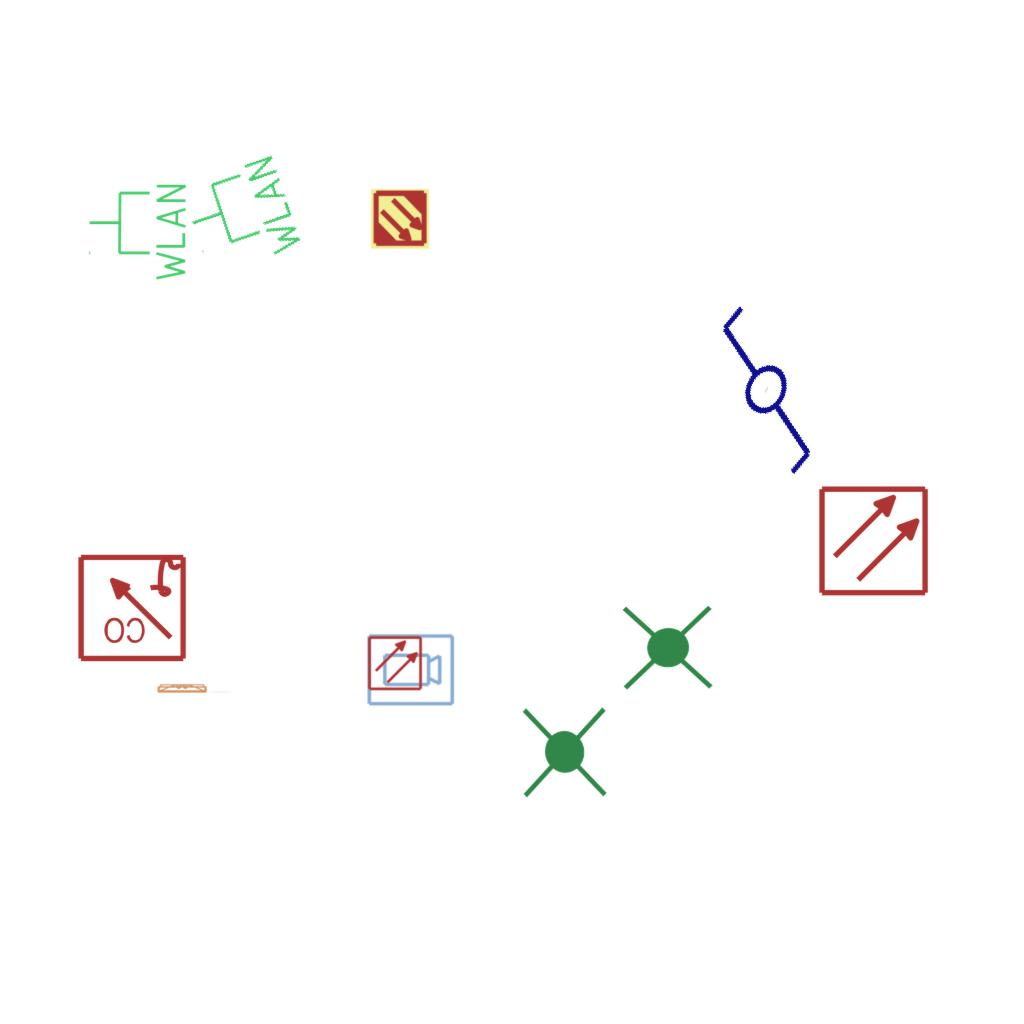ASR_Ansaugrauchmelder: (369, 188, 431, 250)
KFO_Kamera_mit_Festobjektiv: (365, 632, 456, 709)
Notlichtbaustein_in_Allgemeinbeleuchtug_engebaut_Einbau_(1UG_und_2UG_Aufbauvaria: (618, 595, 718, 698), (512, 702, 615, 802)
RMO_Rauchmelder_optischer: (817, 484, 930, 597), (367, 635, 423, 691)
ROA_Rauchmelder_optisch_mit_Signalgeber_(Sockelsirene): (75, 550, 188, 663)
Sicherheitsleuchte_Wandeinbau: (155, 682, 234, 694)
WLAN: (175, 149, 309, 284), (86, 180, 190, 285)
Wechselschalter: (673, 282, 870, 484)
